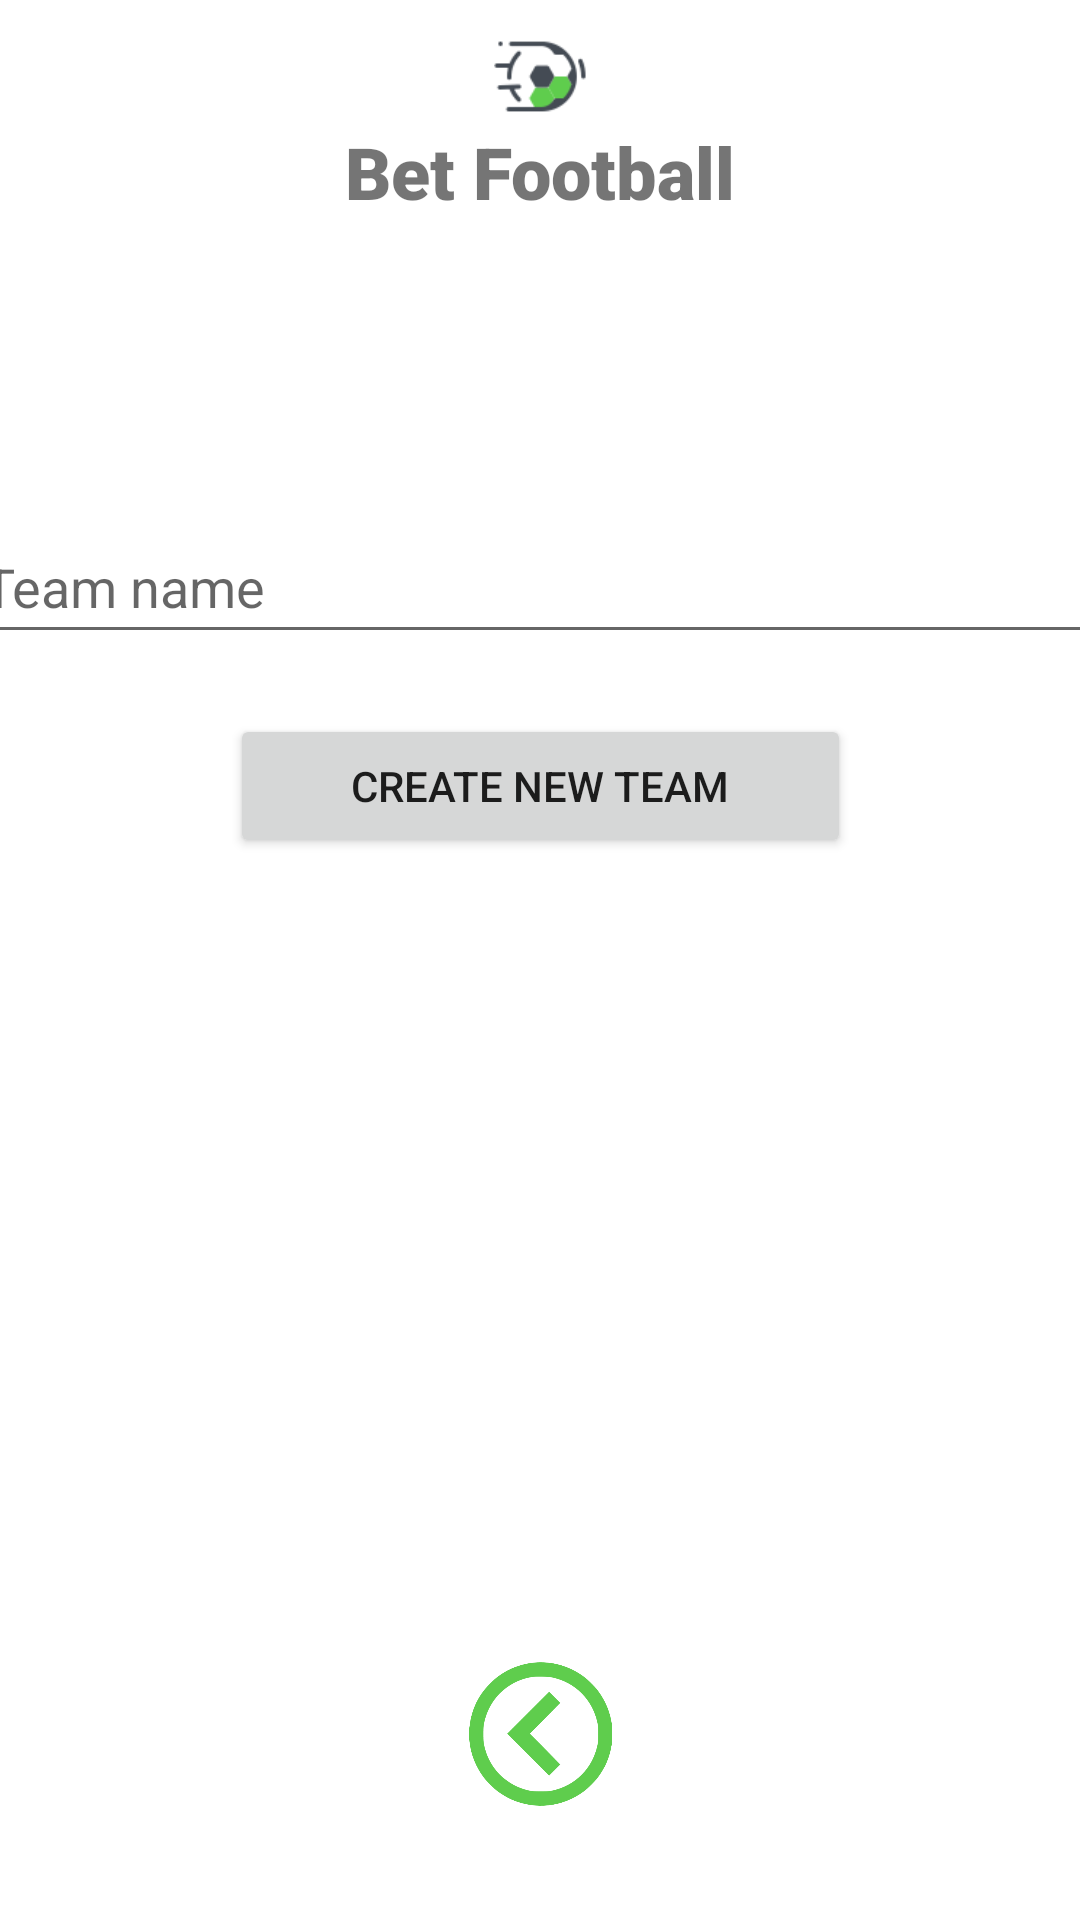

Icons on this 1080 x 1920 Android screen, each with the point to tap as point (x, y):
back: point (540, 1734)
